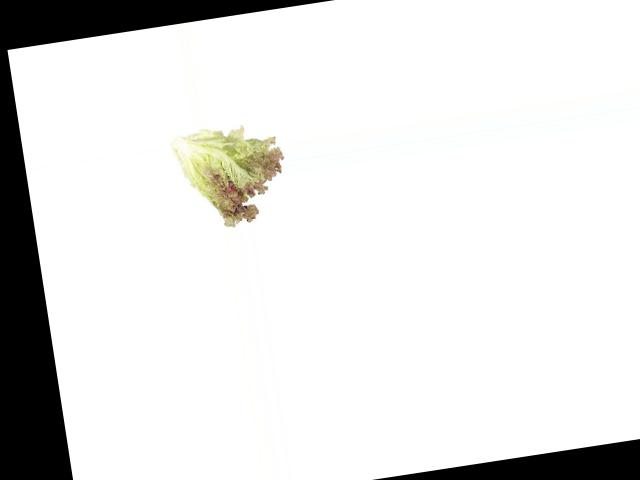lettuce: (171, 119, 293, 232)
